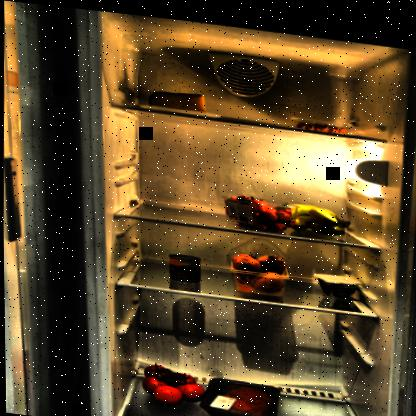banana: (284, 193, 353, 233)
beef: (212, 376, 265, 410)
cheese: (147, 83, 210, 110)
corn: (165, 248, 205, 281)
onion: (229, 244, 289, 291)
shrimp: (294, 112, 355, 128)
strawberries: (222, 185, 294, 229)
tomato: (138, 357, 206, 406)
